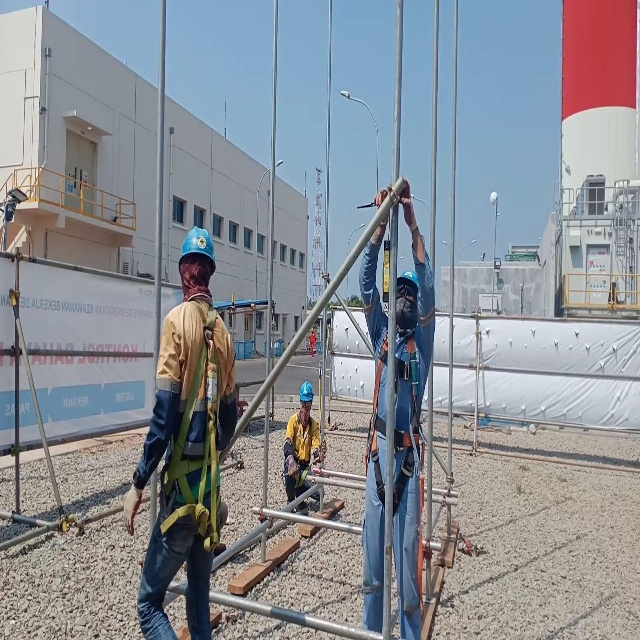Arnes_seguridad: (362, 321, 427, 614), (156, 289, 227, 557), (291, 409, 314, 487)
